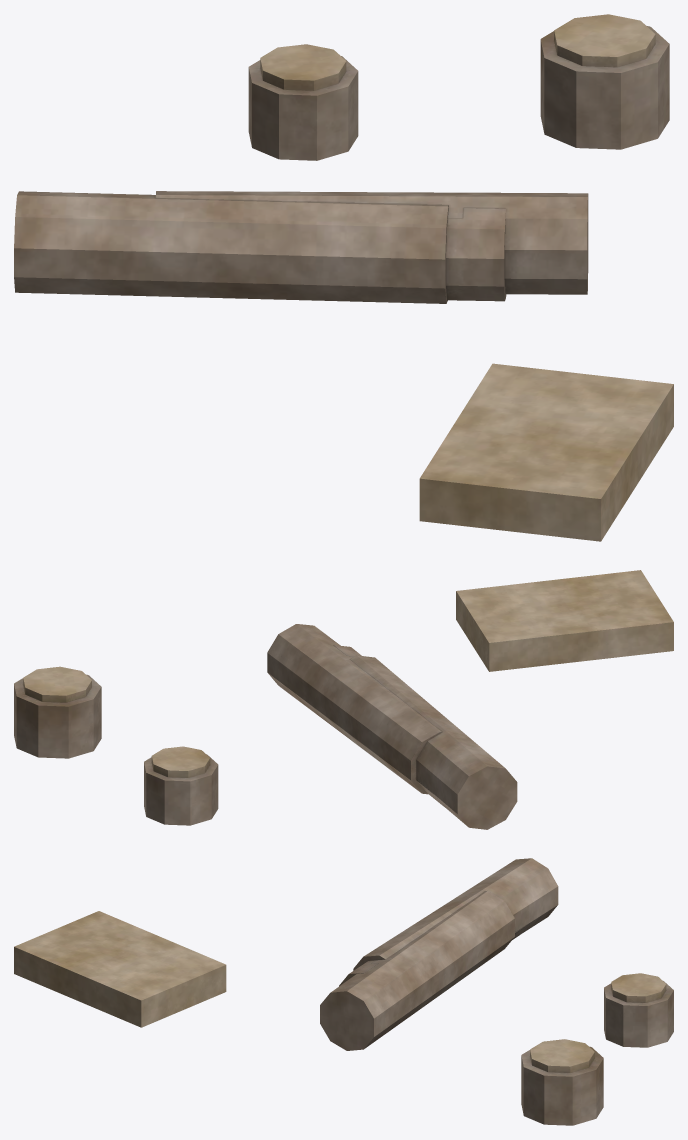
The model's file is res_wood_2.glb.
The picture shows the model from 3 angles, top to bottom: view 1: azimuth 30°, elevation 25°; view 2: azimuth 150°, elevation 25°; view 3: azimuth 270°, elevation 25°; orthographic projection. The views are drawn at different scales.
Visible parts, largest first — view 1: dilek; view 2: dilek; view 3: dilek.
Part boxes in pixels (x1,y1,x2,y2): dilek: [14, 14, 673, 541]; dilek: [14, 570, 673, 829]; dilek: [14, 858, 673, 1125].
Size of the model in its own units: 0.8468 by 0.11 by 1.1.
1 material, 1 textured.
